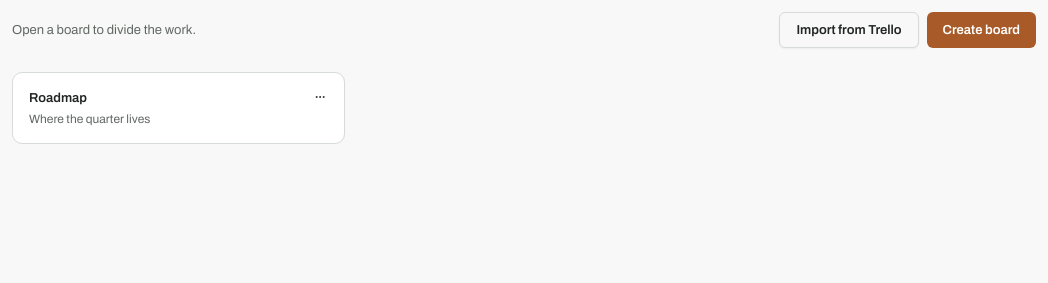
BoardList - inline rename › saves the trimmed name and description on Enter
This screenshot has width=1048, height=283.
Step 1. Press Enter in the button named "Board actions", box [308,85,332,109]
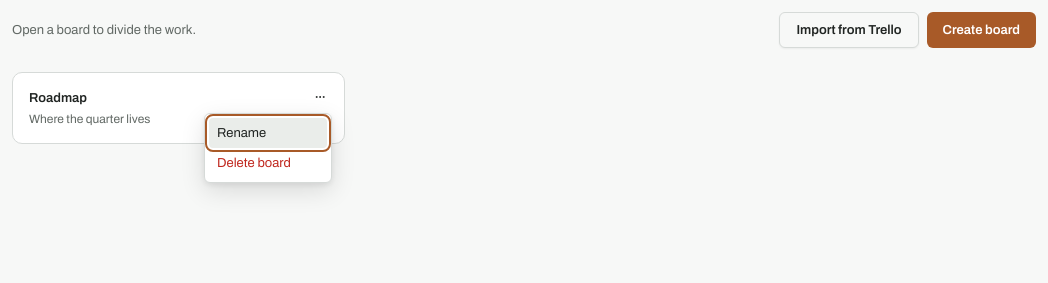
Step 2. Click the menu item "Rename" → (268, 133), box [209,118,327,148]
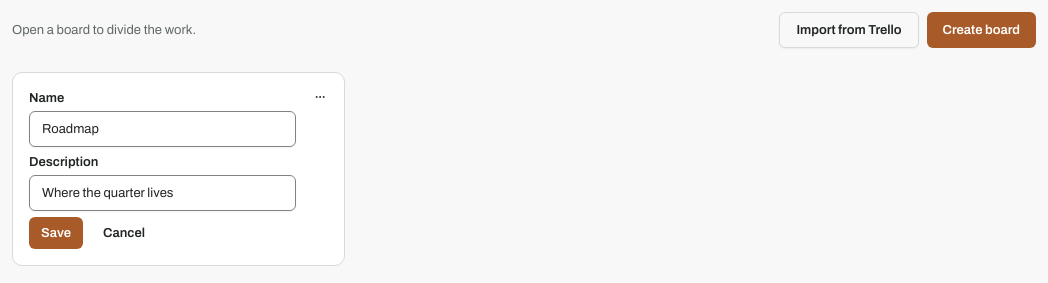
Step 3. Replace the text in the field labelled "Name" with "  Q3 roadmap  " → (163, 129), box [29,111,296,147]
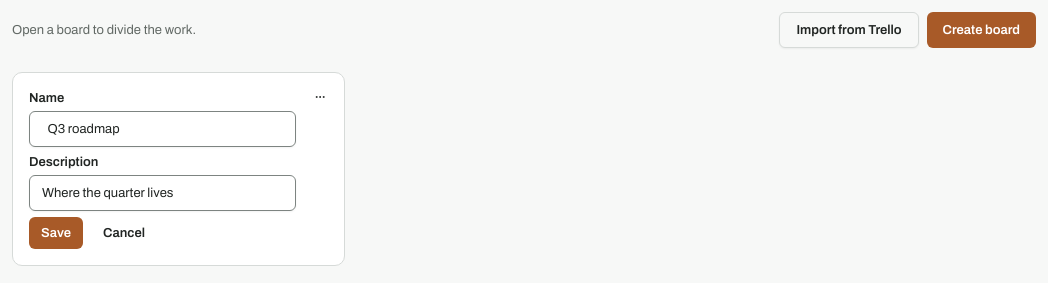
Step 4. Press Enter in the field labelled "Name", box [29,111,296,147]
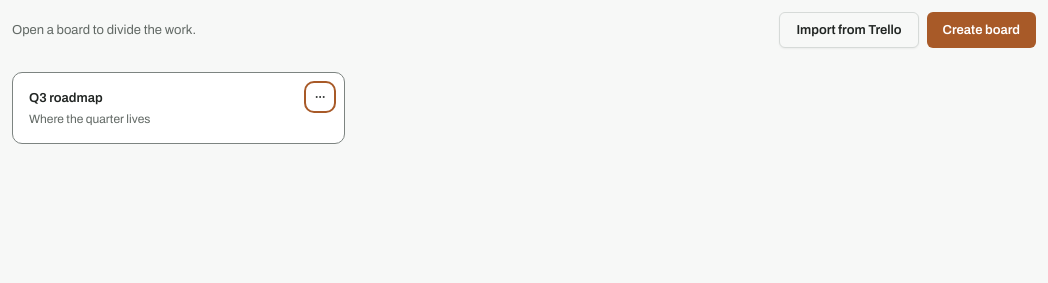
Result: the text "Q3 roadmap" is shown at [29,91,103,105]
